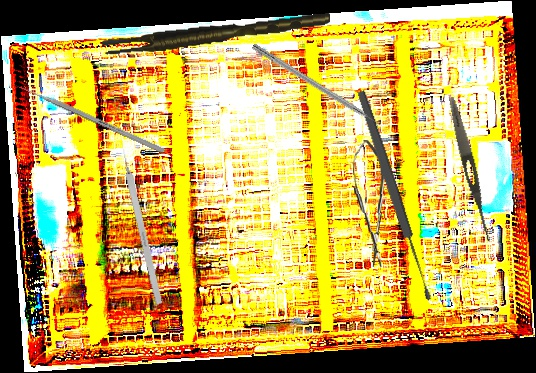Dressing Forceps: (444, 95, 497, 244)
Hook Surgical: (250, 42, 391, 134), (117, 140, 164, 306)
Micro Scissor: (351, 139, 390, 268)
Pusher: (10, 80, 166, 154)
Surgical Spoon: (354, 88, 435, 303)
Tissue Forceps: (101, 13, 332, 56)
